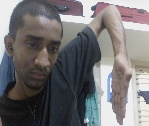hand: (110, 54, 134, 126)
